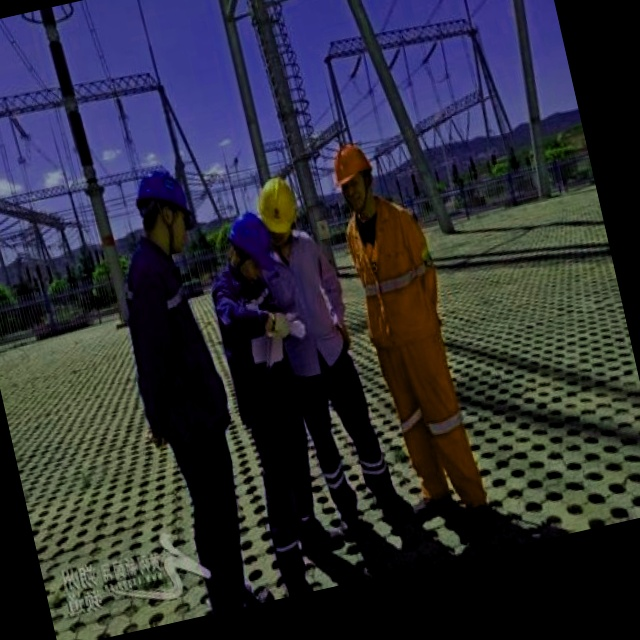Con_Casco: (131, 160, 202, 259), (331, 141, 378, 216)
